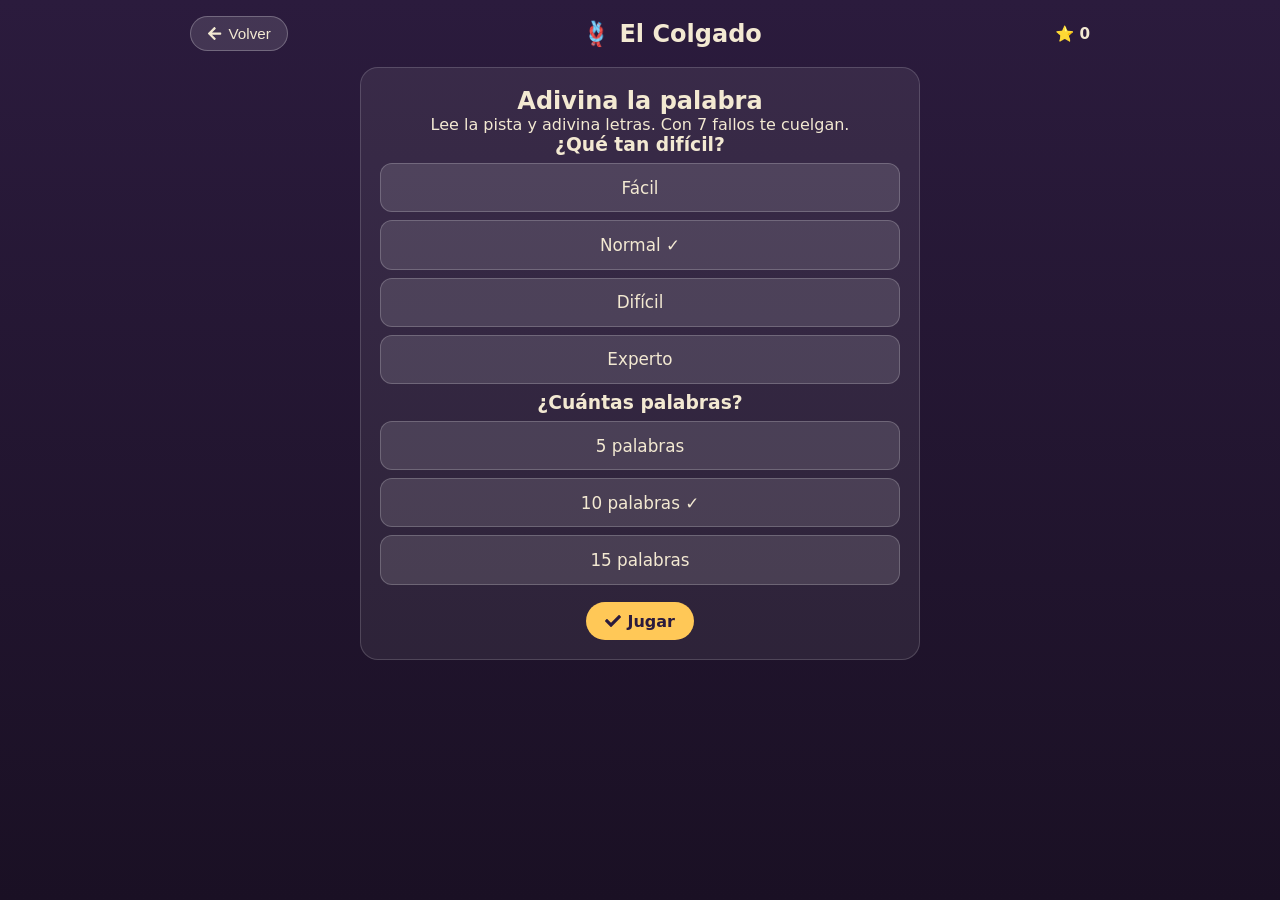
Test: El Colgado › arranca y muestra el teclado
Click the button "Jugar".
click(640, 621)  # box [586,602,694,640]
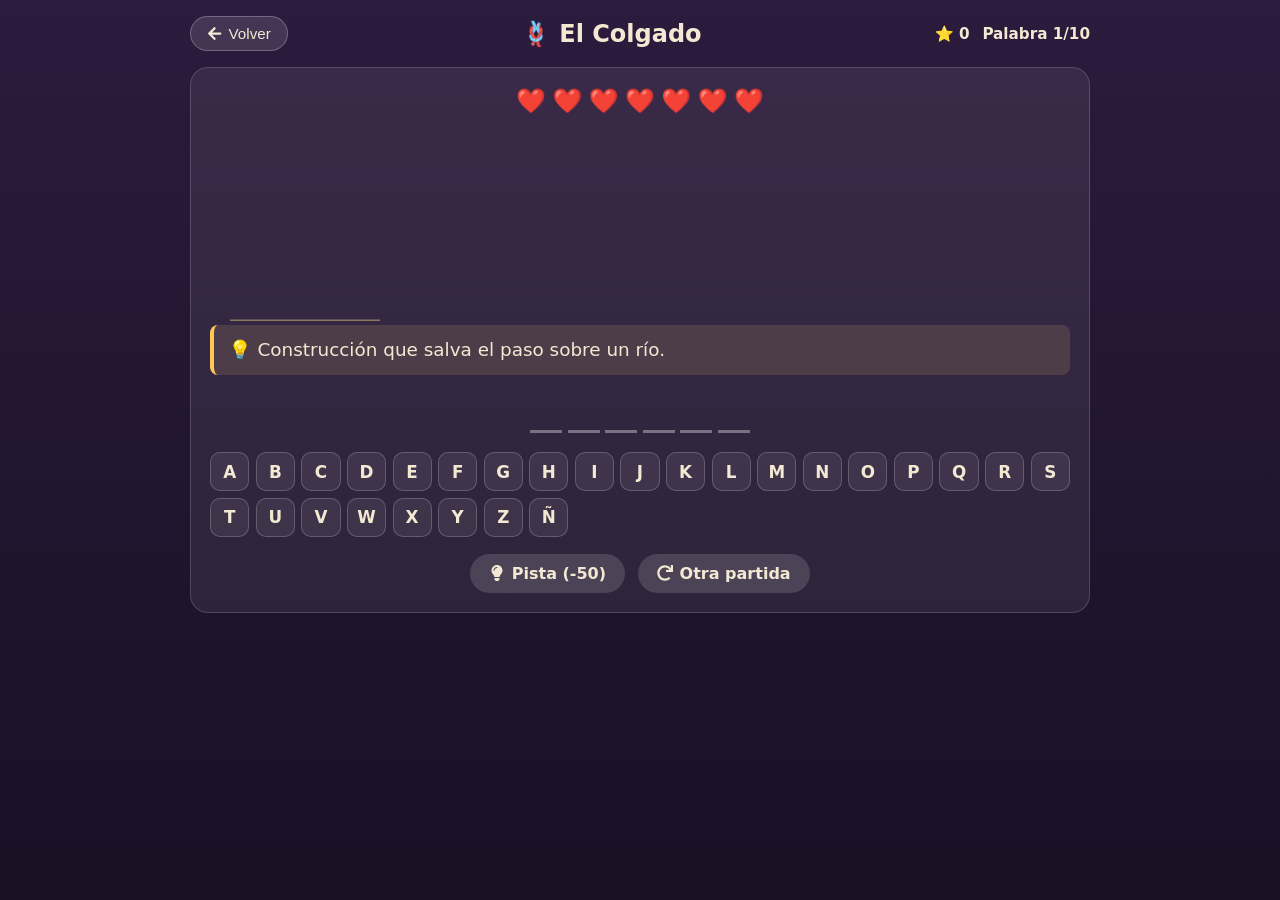
Expected: the button named "Letra a" is shown, [210,452,249,491]
Result: the button named "Letra ñ" is shown at [529,498,568,537]
